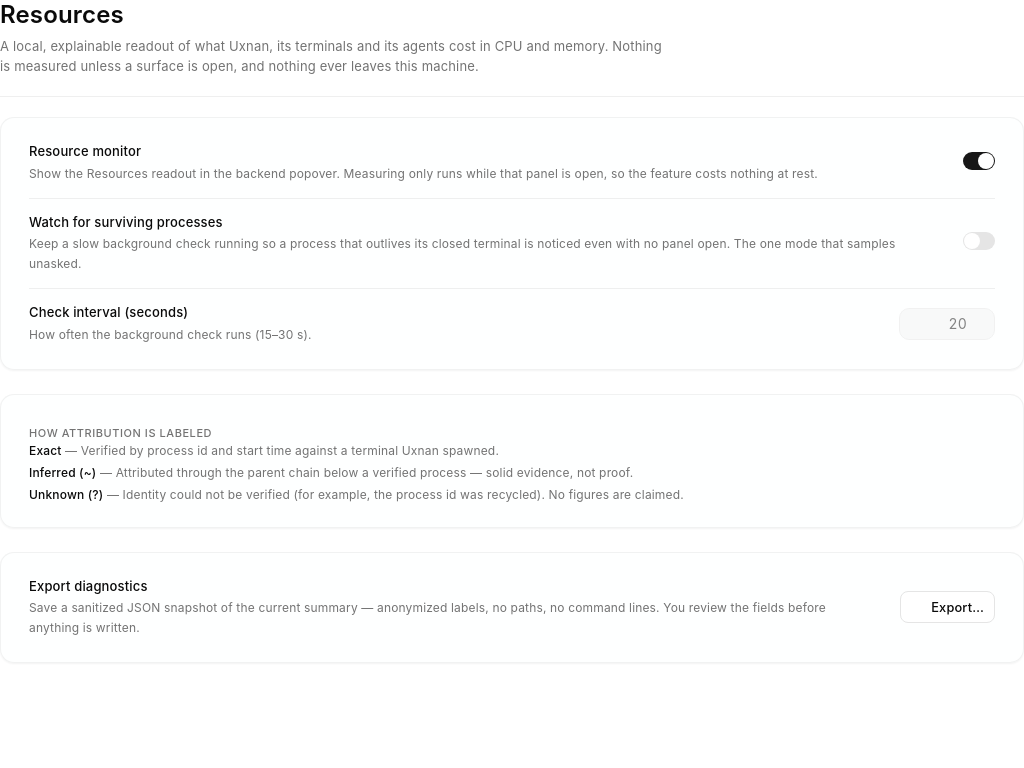
Test: ResourceSettings › shows the export field list for consent before anything is written
Click the button "Export…": (948, 607) [900,591,995,623]
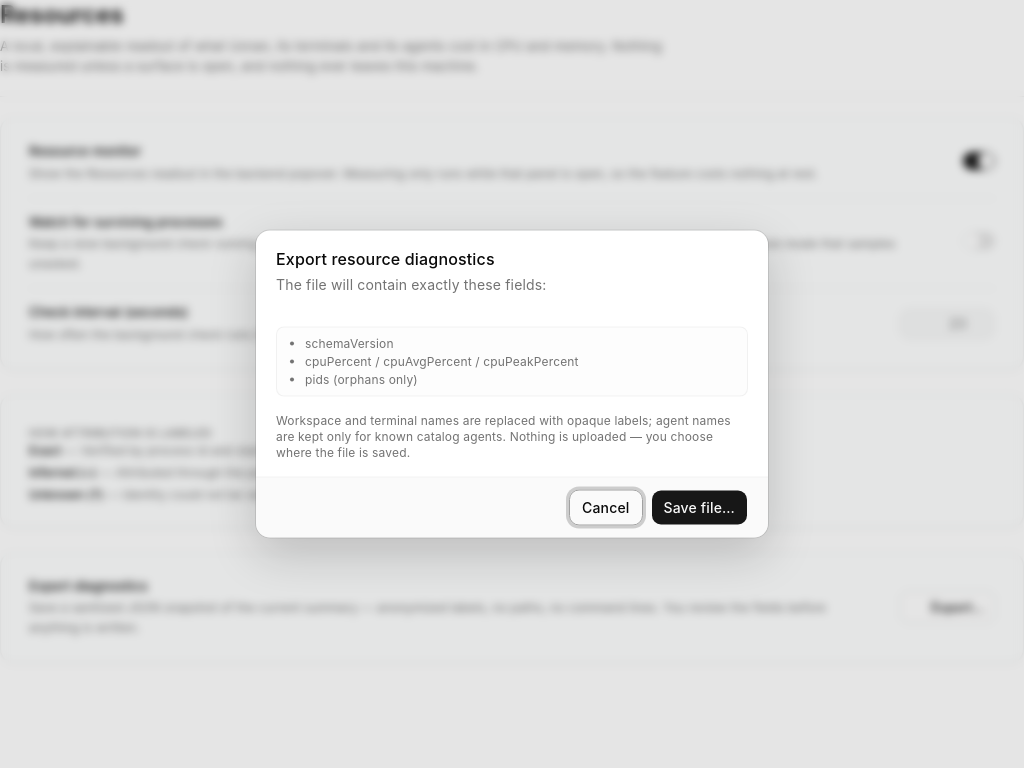
Expected: the list with test id "export-fields" shows "pids (orphans only)", [305,372,418,386]
